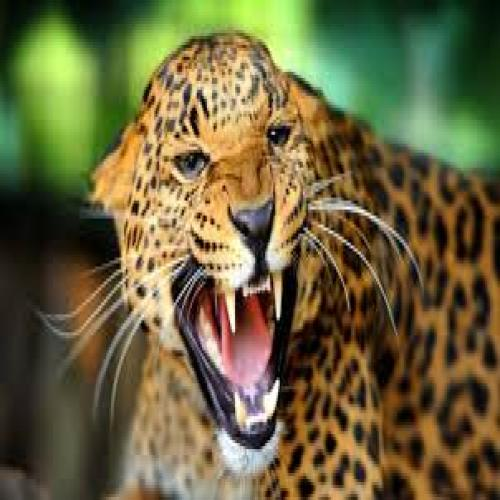jaguar_not-endangered: (88, 27, 498, 500)
